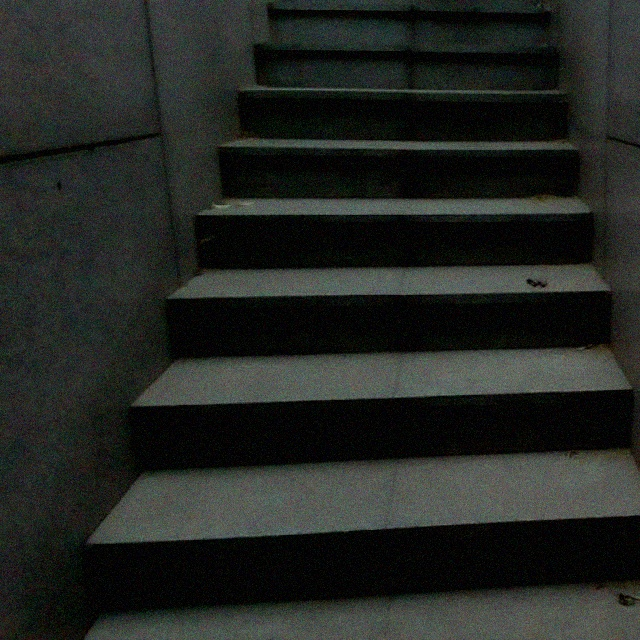stair: (159, 0, 640, 595)
